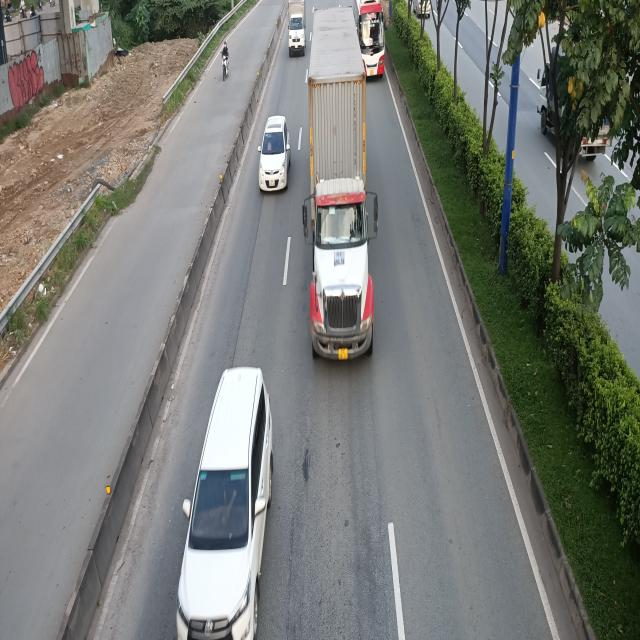car: (180, 368, 278, 640), (259, 116, 291, 195)
coach: (352, 0, 386, 78)
container: (301, 7, 375, 360)
truck: (286, 0, 307, 56)
